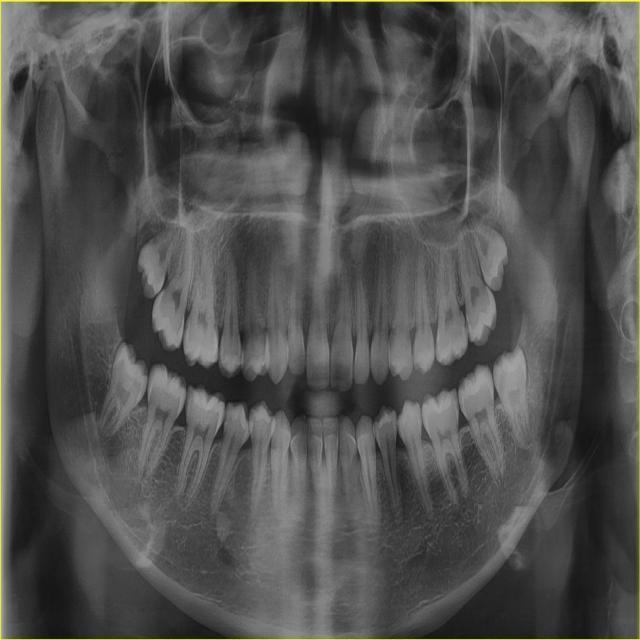Sterngold Implant: (183, 320, 190, 334), (458, 398, 465, 411), (462, 319, 468, 332), (224, 410, 229, 424), (455, 401, 459, 412)
